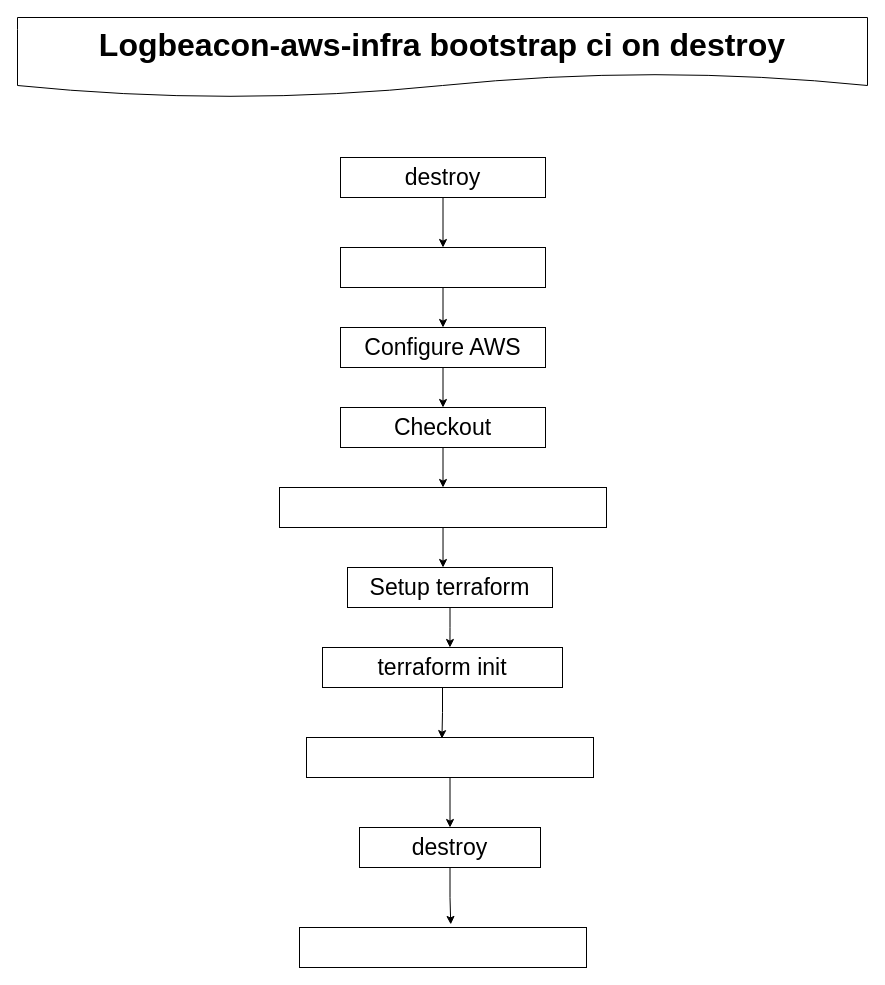
The diagram is 885 pixels wide and 985 high, and some of its shapes have lost their labels. The centre of each missing label's shape, as x and y in pixels:
"Generate terraform.tfvars" goes at (442,507).
"main" goes at (443,267).
"Remove terraform.tfvars" goes at (442,947).
"terraform destroy plan" goes at (450,757).
